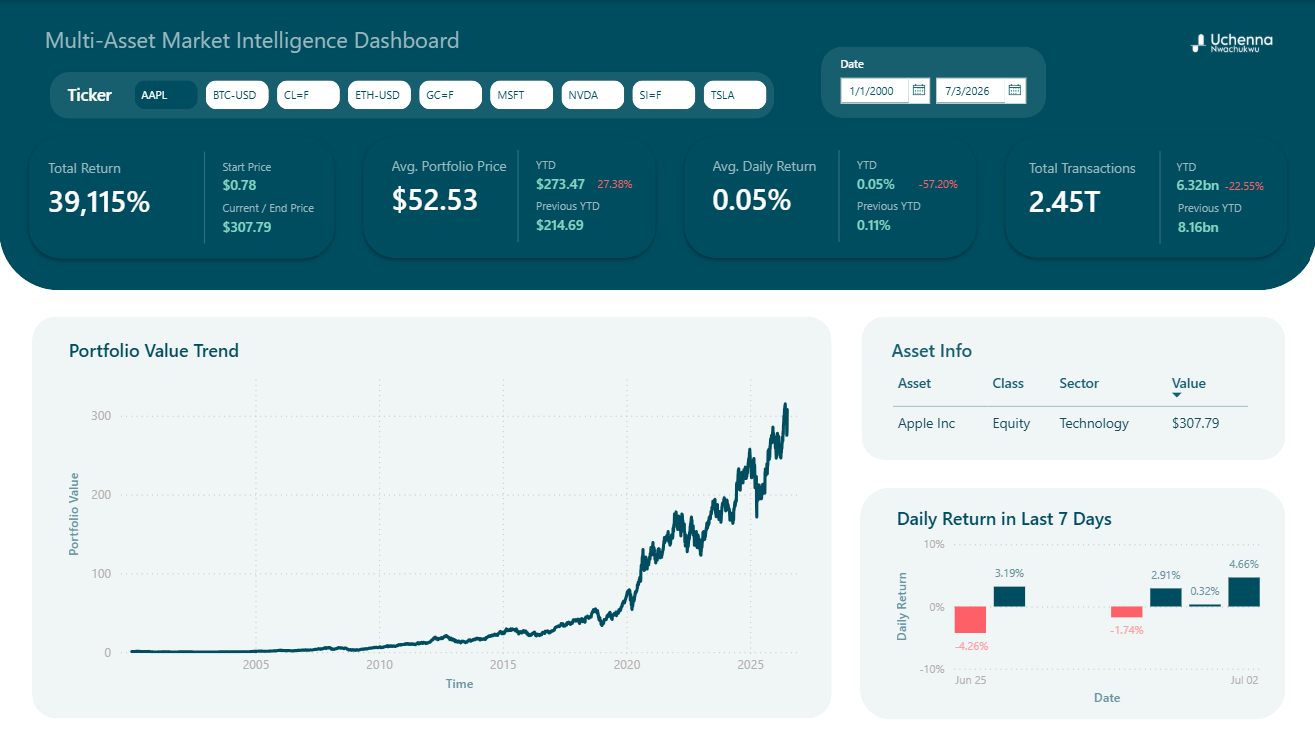

This screenshot's page, from the dashboard's own definition file:
{"tool":"powerbi","page":{"name":"Asset Deep Dive","canvas":[1280,720],"ordinal":0},"visuals":[{"type":"shape","box":[0,60,1280,222],"z":0},{"type":"shape","box":[970.3,126.7,284.6,129.2],"z":0,"group":"g2"},{"type":"shape","box":[23.3,127.2,308,130],"z":0,"group":"g4"},{"type":"shape","box":[0,0,1280,126],"z":1000},{"type":"cardVisual","fields":{"Data":["Sum(market_data.Volume)"]},"box":[977.2,126.9,158.8,113.1],"z":1000,"group":"g2"},{"type":"cardVisual","fields":{"Data":["market_data.Total Return"]},"box":[31.3,127.2,174,113.3],"z":1000,"group":"g4"},{"type":"textbox","box":[39.4,17.4,451.8,71.2],"z":2000},{"type":"shape","box":[347.6,126.9,295,129.4],"z":2000,"group":"g1"},{"type":"shape","box":[659,127.2,295,129.4],"z":2000,"group":"g3"},{"type":"shape","box":[1119.5,147.6,11.7,89.2],"z":2000,"group":"g2"},{"type":"shape","box":[193.4,147.9,11.7,89.2],"z":2000,"group":"g4"},{"type":"group","id":"g1","title":"Group 2","box":[347.6,126.9,295,129.4],"z":3000},{"type":"cardVisual","fields":{"Data":["market_data.YTD Transactions"]},"box":[1142.8,152.5,104.5,37.3],"z":3000,"group":"g2"},{"type":"cardVisual","fields":{"Data":["market_data.Start Price"]},"box":[216.6,152.8,104.5,37.3],"z":3000,"group":"g4"},{"type":"group","id":"g2","title":"Group 1","box":[970.3,126.7,284.6,129.2],"z":4000},{"type":"cardVisual","fields":{"Data":["market_data.PY Transactions"]},"box":[1142.9,192.1,91.8,38.6],"z":4000,"group":"g2"},{"type":"cardVisual","fields":{"Data":["market_data.End Price"]},"box":[216.8,192.4,91.8,38.6],"z":4000,"group":"g4"},{"type":"group","id":"g3","title":"Group 3","box":[659,127.2,295,129.4],"z":5000},{"type":"cardVisual","fields":{"Data":["Avg(market_data.Close)"]},"box":[362.9,131.8,158.6,101],"z":5000,"group":"g1"},{"type":"cardVisual","fields":{"Data":["Avg(market_data.Return)"]},"box":[674.3,132.1,158.6,101],"z":5000,"group":"g3"},{"type":"cardVisual","fields":{"Data":["Date Table.YoY & Change"]},"box":[1188.7,167.1,45.9,23.2],"z":5000,"group":"g2"},{"type":"shape","box":[497.9,146.4,11.7,89.2],"z":6000,"group":"g1"},{"type":"shape","box":[809.3,146.7,11.7,89.2],"z":6000,"group":"g3"},{"type":"tableEx","title":"Asset Info","fields":{"Values":["market_data.Asset_Name","market_data.Asset_Class","market_data.Sector","market_data.End Price"]},"box":[866,327,349,105],"z":6000},{"type":"cardVisual","fields":{"Data":["market_data.YTD Open"]},"box":[521.2,151.4,104.5,37.3],"z":7000,"group":"g1"},{"type":"cardVisual","fields":{"Data":["Date Table.YTD Return"]},"box":[832.6,151.7,104.5,37.3],"z":7000,"group":"g3"},{"type":"shape","box":[835.5,472.8,412.9,225.1],"z":7000},{"type":"group","id":"g4","title":"Group 4","box":[23.3,127.2,308,130],"z":8000},{"type":"cardVisual","fields":{"Data":["Date Table.PY Open"]},"box":[521.3,190.9,91.8,38.6],"z":8000,"group":"g1"},{"type":"cardVisual","fields":{"Data":["Date Table.PY Return"]},"box":[832.7,191.2,91.8,38.6],"z":8000,"group":"g3"},{"type":"cardVisual","fields":{"Data":["Date Table.YoY % Open"]},"box":[580,166.9,46,23.3],"z":9000,"group":"g1"},{"type":"cardVisual","fields":{"Data":["Date Table.YoY % Return"]},"box":[891.4,167.2,46,23.3],"z":9000,"group":"g3"},{"type":"shape","box":[837.1,307.7,411.3,139.3],"z":9000},{"type":"image","box":[1156.1,32.4,81,19.4],"z":10000},{"type":"shape","box":[32,307.2,776,390],"z":11000},{"type":"shape","box":[50.2,69.6,702.7,45.3],"z":12000},{"type":"advancedSlicerVisual","fields":{"Values":["market_data.Ticker"]},"box":[126.3,72.9,626.6,38.9],"z":13000},{"type":"textbox","box":[61.4,75,56.4,38.6],"z":14000},{"type":"lineChart","title":"Portfolio Value Trend","fields":{"Y":["Avg(market_data.Close)"],"Category":["Date Table.Full Year Hierarchy.Date","Date Table.Full Year Hierarchy.full month","Date Table.Full Year Hierarchy.Full Quarter","Date Table.Full Year Hierarchy.Full Year"]},"box":[62,327.2,720,348],"z":15000},{"type":"clusteredColumnChart","title":"Daily Return in Last 7 Days","fields":{"Category":["market_data.Date"],"Y":["market_data.Recent Return"]},"box":[866,490,362,199],"z":16000},{"type":"shape","box":[797,44.6,218.6,69.3],"z":18000},{"type":"slicer","fields":{"Values":["Date Table.Date"]},"box":[803.5,48.9,206.4,60.7],"z":18500}]}

Visuals, with their boxes in screenshot pixels (x1, y1, x2, y2), scaled from the page's 1280x720 canvas onto the 1315x739 screenshot:
shape: bbox=(0, 62, 1314, 289)
shape: bbox=(997, 130, 1289, 263)
shape: bbox=(24, 131, 340, 264)
shape: bbox=(0, 0, 1314, 129)
cardVisual - Sum(market_data.Volume): bbox=(1004, 130, 1167, 246)
cardVisual - market_data.Total Return: bbox=(32, 131, 211, 247)
textbox: bbox=(40, 18, 505, 91)
shape: bbox=(357, 130, 660, 263)
shape: bbox=(677, 131, 980, 263)
shape: bbox=(1150, 151, 1162, 243)
shape: bbox=(199, 152, 211, 243)
"Group 2" group: bbox=(357, 130, 660, 263)
cardVisual - market_data.YTD Transactions: bbox=(1174, 157, 1281, 195)
cardVisual - market_data.Start Price: bbox=(223, 157, 330, 195)
"Group 1" group: bbox=(997, 130, 1289, 263)
cardVisual - market_data.PY Transactions: bbox=(1174, 197, 1268, 237)
cardVisual - market_data.End Price: bbox=(223, 197, 317, 237)
"Group 3" group: bbox=(677, 131, 980, 263)
cardVisual - Avg(market_data.Close): bbox=(373, 135, 536, 239)
cardVisual - Avg(market_data.Return): bbox=(693, 136, 856, 239)
cardVisual - Date Table.YoY & Change: bbox=(1221, 172, 1268, 195)
shape: bbox=(512, 150, 524, 242)
shape: bbox=(831, 151, 843, 242)
"Asset Info" tableEx: bbox=(890, 336, 1248, 443)
cardVisual - market_data.YTD Open: bbox=(535, 155, 643, 194)
cardVisual - Date Table.YTD Return: bbox=(855, 156, 963, 194)
shape: bbox=(858, 485, 1283, 716)
"Group 4" group: bbox=(24, 131, 340, 264)
cardVisual - Date Table.PY Open: bbox=(536, 196, 630, 236)
cardVisual - Date Table.PY Return: bbox=(855, 196, 950, 236)
cardVisual - Date Table.YoY % Open: bbox=(596, 171, 643, 195)
cardVisual - Date Table.YoY % Return: bbox=(916, 172, 963, 196)
shape: bbox=(860, 316, 1283, 459)
image: bbox=(1188, 33, 1271, 53)
shape: bbox=(33, 315, 830, 716)
shape: bbox=(52, 71, 773, 118)
advancedSlicerVisual - market_data.Ticker: bbox=(130, 75, 773, 115)
textbox: bbox=(63, 77, 121, 117)
"Portfolio Value Trend" lineChart: bbox=(64, 336, 803, 693)
"Daily Return in Last 7 Days" clusteredColumnChart: bbox=(890, 503, 1262, 707)
shape: bbox=(819, 46, 1043, 117)
slicer - Date Table.Date: bbox=(825, 50, 1038, 112)
